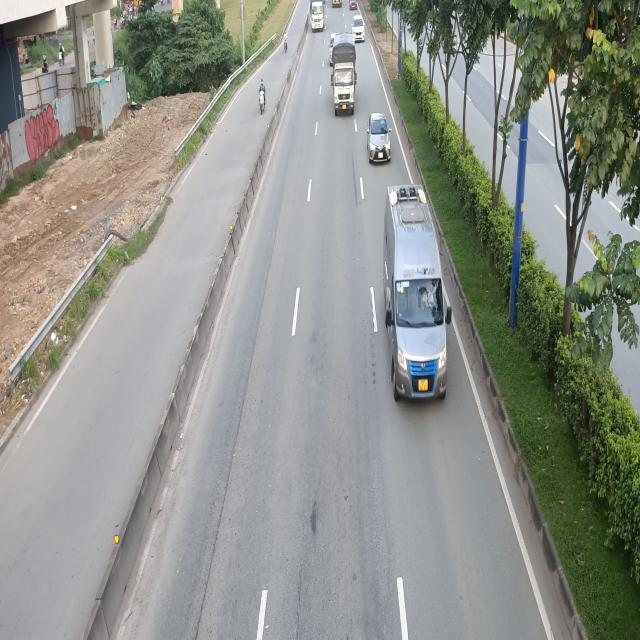car: (368, 112, 393, 164), (351, 16, 365, 42)
truck: (332, 34, 358, 116)
van: (382, 189, 452, 400)
